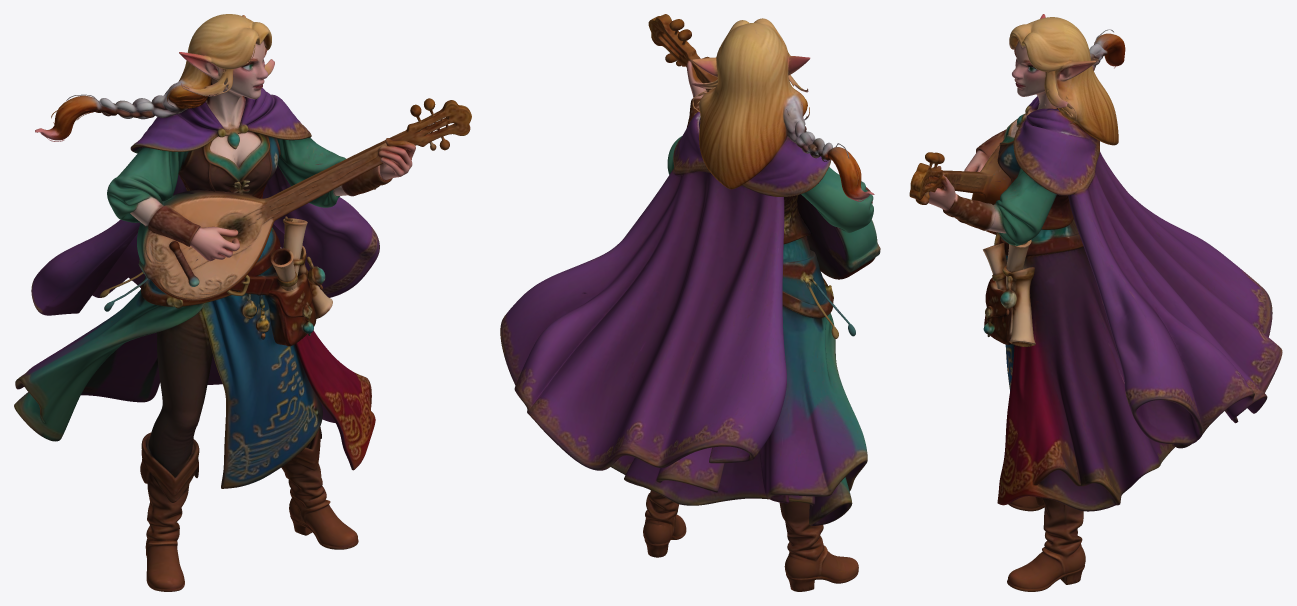
The model's file is half_elf_bard_full_female_01.glb.
3 views of the same model, side by side, from view 1: azimuth 30°, elevation 25°; view 2: azimuth 150°, elevation 25°; view 3: azimuth 270°, elevation 25° (orthographic). The views are drawn at different scales.
Visible parts, largest first — view 1: material; view 2: material; view 3: material.
Part boxes in pixels (<box>): material: <box>14,14,471,591</box>; material: <box>500,14,880,591</box>; material: <box>909,14,1282,591</box>.
Bounding box in the file's own units: 0.7438 × 1.08 × 0.7027.
1 material, 1 textured.
